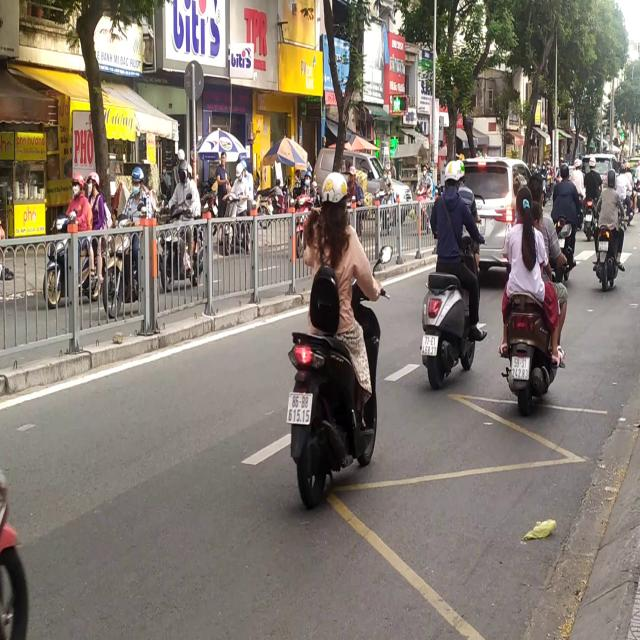bien_trang: (286, 391, 311, 428), (420, 334, 440, 364), (512, 357, 530, 381)
